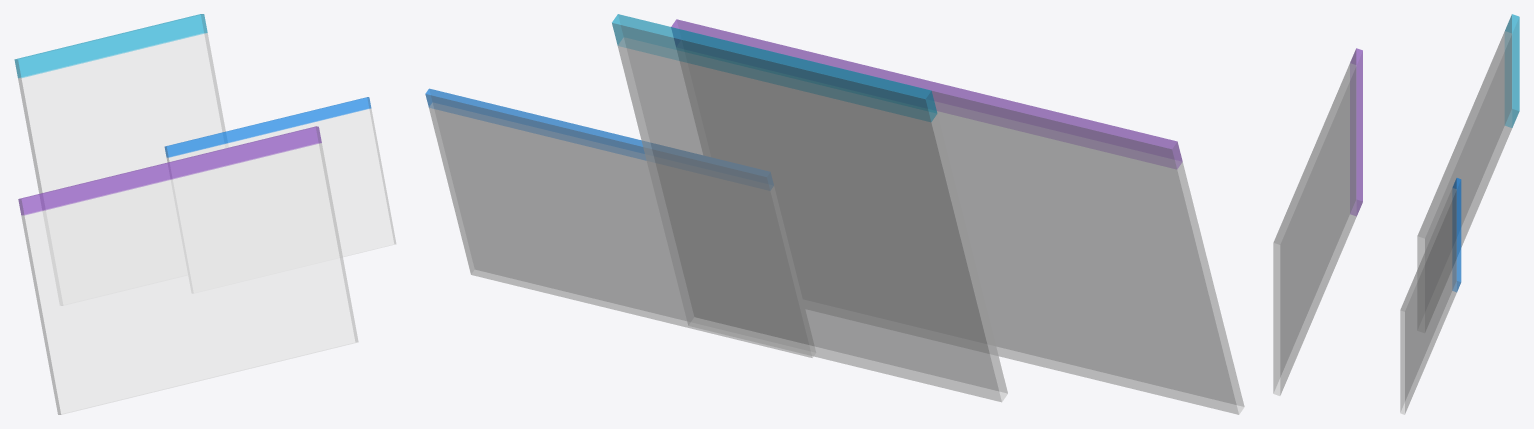
The model's file is Windows.glb.
3 views of the same model, side by side, from view 1: azimuth 30°, elevation 25°; view 2: azimuth 150°, elevation 25°; view 3: azimuth 270°, elevation 25° (orthographic). The views are drawn at different scales.
Visible parts, largest first — view 1: Plane.150, Plane.151, Plane.149; view 2: Plane.150, Plane.151, Plane.149; view 3: Plane.150, Plane.151, Plane.149.
Boxes of the visible parts, bbox=[...] form: Plane.150: bbox=[18, 126, 358, 414]; Plane.151: bbox=[14, 14, 227, 305]; Plane.149: bbox=[164, 97, 396, 292]; Plane.150: bbox=[671, 19, 1244, 414]; Plane.151: bbox=[612, 14, 1007, 402]; Plane.149: bbox=[425, 88, 815, 357]; Plane.150: bbox=[1273, 48, 1362, 395]; Plane.151: bbox=[1417, 14, 1519, 332]; Plane.149: bbox=[1400, 178, 1461, 414].
Size of the model in its own units: 4.14 by 2.56 by 2.14.
